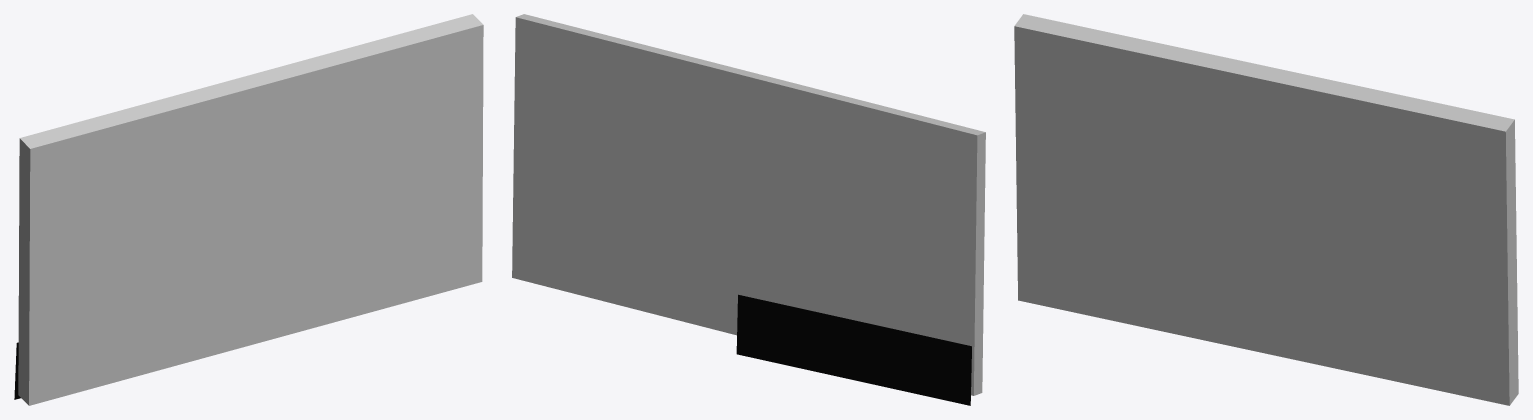
Rendered from s242Sign.obj.
3 views of the same model, side by side, from view 1: azimuth 30°, elevation 25°; view 2: azimuth 150°, elevation 25°; view 3: azimuth 330°, elevation 25° (orthographic). The views are drawn at different scales.
Parts seen in each view (by area): view 1: Cube.002; view 2: Cube.002, Plane; view 3: Cube.002.
Boxes of the visible parts, x1=… form: Cube.002: x1=18, y1=14, x2=483, y2=405; Cube.002: x1=512, y1=14, x2=985, y2=395; Plane: x1=736, y1=294, x2=971, y2=405; Cube.002: x1=1014, y1=14, x2=1518, y2=405.
Size of the model in its own units: 16.33 by 9.41 by 1.21.
